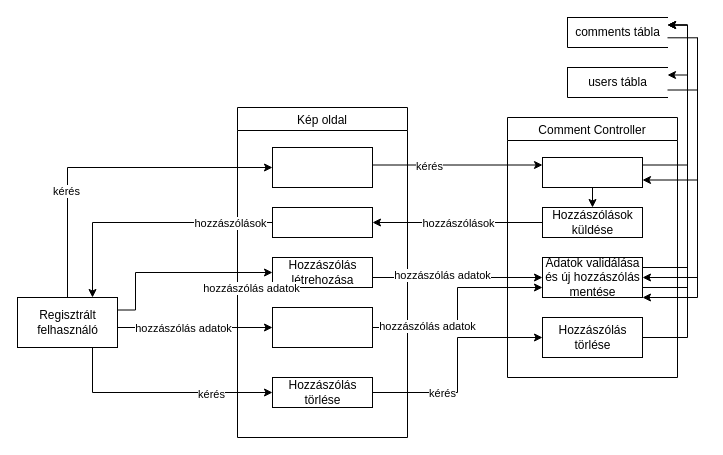
Image size: 723x455. Some labels were removed from this diagram. Each missing label, with the centre of its shape:
Hozzászólások lekérése: (592,172)
Hozzászólások megjelenítése: (322,222)
Képhez tartozó hozzászólások lekérése: (322,167)
Válasz hozzászólás létrehozása: (322,327)
